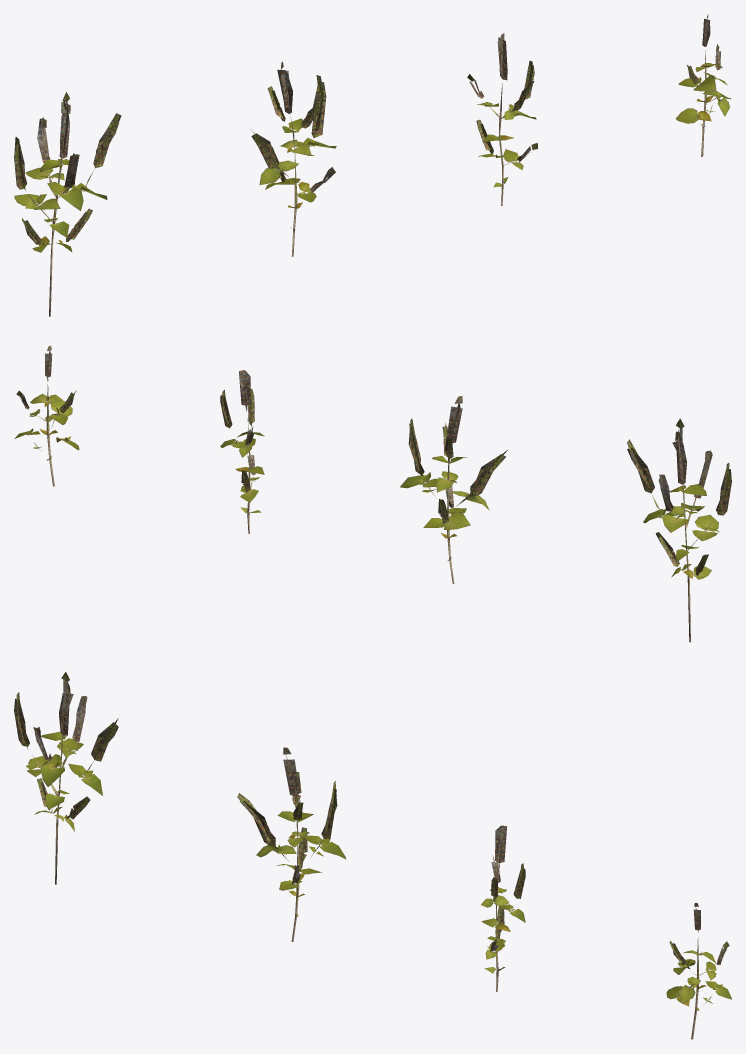
Rendered from shrub_03.glb.
3 renders of one model, top to bottom at view 1: azimuth 30°, elevation 25°; view 2: azimuth 150°, elevation 25°; view 3: azimuth 330°, elevation 25°, orthographic. The views are drawn at different scales.
Parts seen in each view (by area): view 1: shrub_03_a, shrub_03_b, shrub_03_c, shrub_03_d; view 2: shrub_03_a, shrub_03_b, shrub_03_c, shrub_03_d; view 3: shrub_03_a, shrub_03_b, shrub_03_c, shrub_03_d.
Part boxes in pixels (x1,y1,x2,y2): shrub_03_a: [14, 92, 121, 316]; shrub_03_b: [250, 61, 336, 256]; shrub_03_c: [467, 33, 537, 205]; shrub_03_d: [675, 14, 731, 156]; shrub_03_a: [627, 418, 731, 642]; shrub_03_b: [400, 396, 507, 583]; shrub_03_c: [220, 370, 264, 533]; shrub_03_d: [14, 345, 79, 486]; shrub_03_a: [14, 672, 118, 884]; shrub_03_b: [237, 747, 346, 941]; shrub_03_c: [481, 825, 525, 991]; shrub_03_d: [666, 903, 731, 1039].
Bounding box in the file's own units: 1.37 × 0.403 × 0.1518.
1 material, 1 textured.
